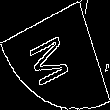M_E: (30, 23, 80, 87)
